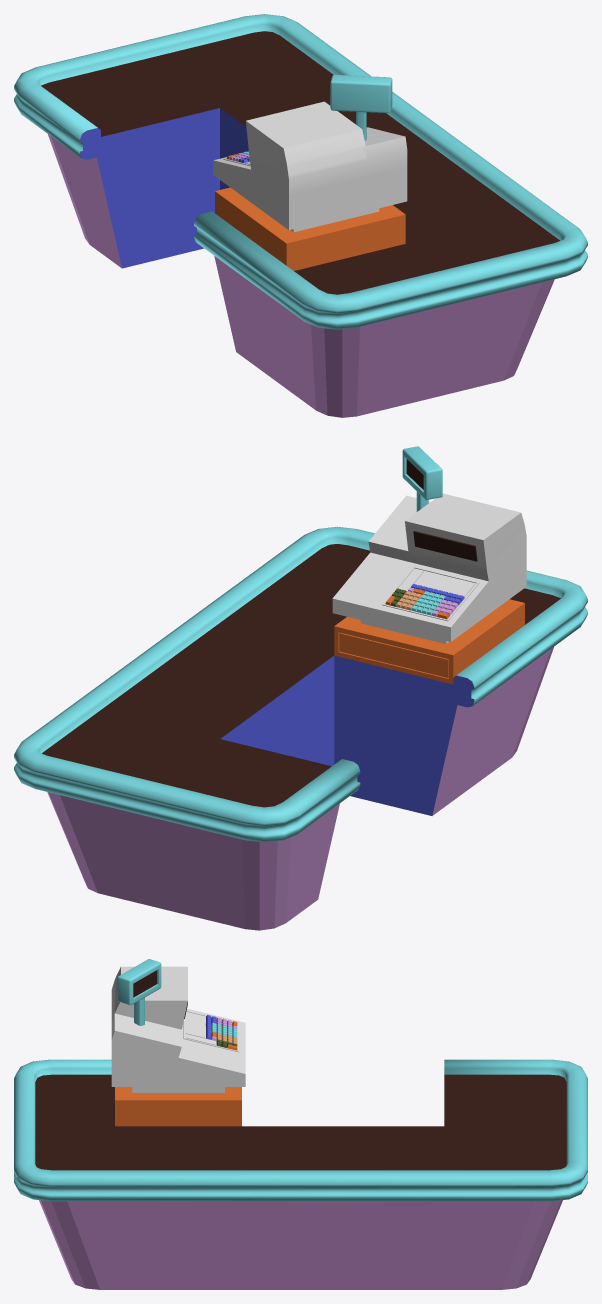
The model's file is Counter_3.glb.
The picture shows the model from 3 angles, top to bottom: view 1: azimuth 30°, elevation 25°; view 2: azimuth 150°, elevation 25°; view 3: azimuth 270°, elevation 25°; orthographic projection. The views are drawn at different scales.
Visible parts, largest first — view 1: main_counter.002, Register.001, cofer.001, cost.002; view 2: main_counter.002, Register.001, cofer.001, keyboard.001, cost.002, Screen.001; view 3: main_counter.002, Register.001, cofer.001, cost.002, keyboard.001.
Part boxes in pixels (x1,y1,x2,y2): main_counter.002: (14, 14, 587, 417); Register.001: (213, 101, 407, 232); cofer.001: (215, 187, 405, 270); cost.002: (330, 74, 392, 140); main_counter.002: (14, 526, 587, 930); Register.001: (332, 493, 526, 643); cofer.001: (334, 599, 524, 684); keyboard.001: (382, 566, 479, 621); cost.002: (402, 446, 442, 511); Screen.001: (413, 531, 477, 561); main_counter.002: (14, 1059, 587, 1289); Register.001: (111, 966, 245, 1092); cofer.001: (115, 1087, 241, 1126); cost.002: (117, 959, 161, 1025); keyboard.001: (183, 1010, 239, 1052).
Bounding box in the file's own units: 2 × 2.04 × 4.
